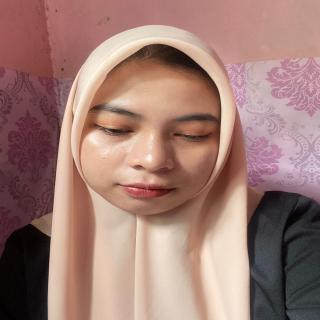Sedih: (76, 51, 232, 220)
